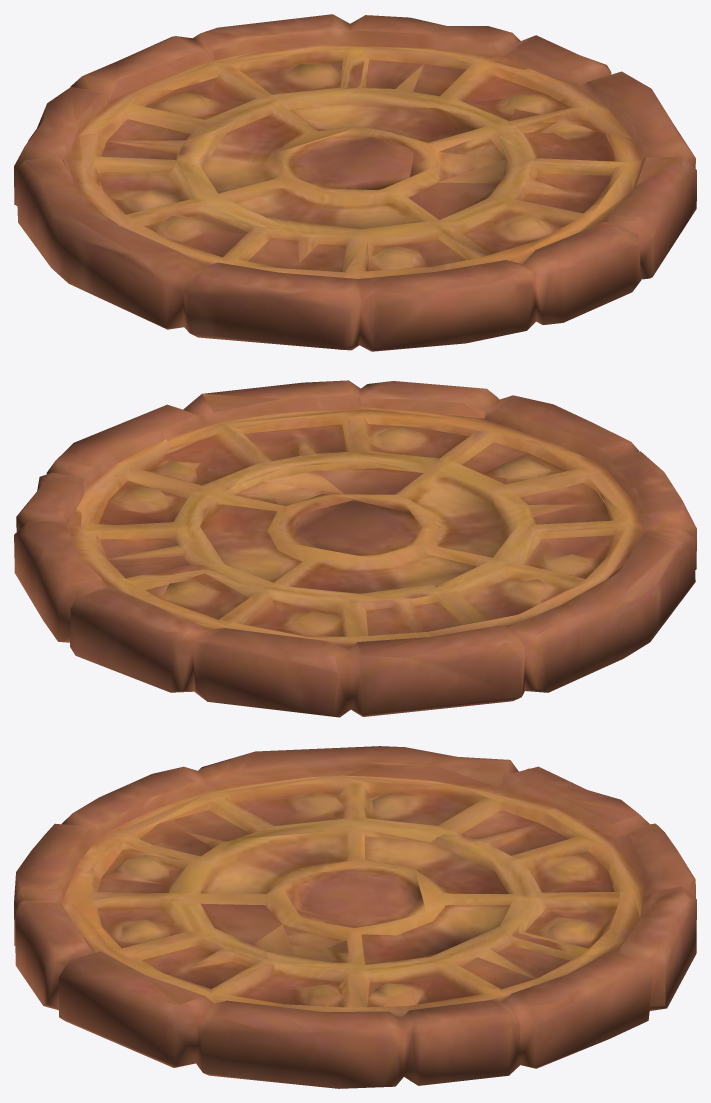
Rendered from lg-boss-arena-floor.glb.
The picture shows the model from 3 angles, top to bottom: view 1: azimuth 30°, elevation 25°; view 2: azimuth 150°, elevation 25°; view 3: azimuth 270°, elevation 25°; orthographic projection.
Parts seen in each view (by area): view 1: geometry_0; view 2: geometry_0; view 3: geometry_0.
Boxes of the visible parts, x1,y1,x2,y2 form: geometry_0: (14, 14, 696, 351); geometry_0: (14, 380, 696, 717); geometry_0: (14, 746, 696, 1088).
Size of the model in its own units: 1 by 0.0993 by 0.9973.
1 material, 1 textured.
